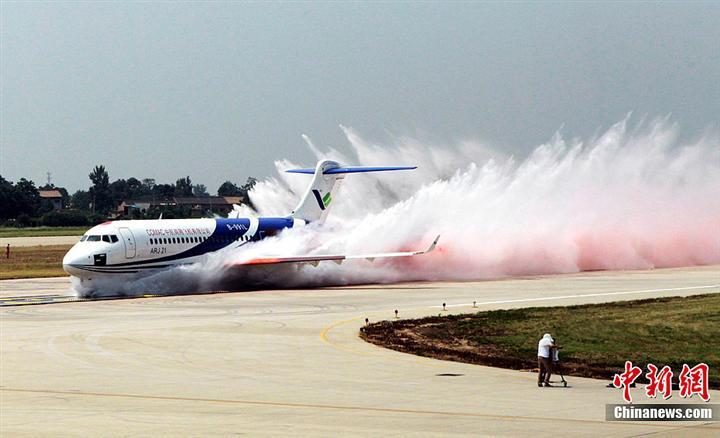airplane: (56, 153, 457, 297)
